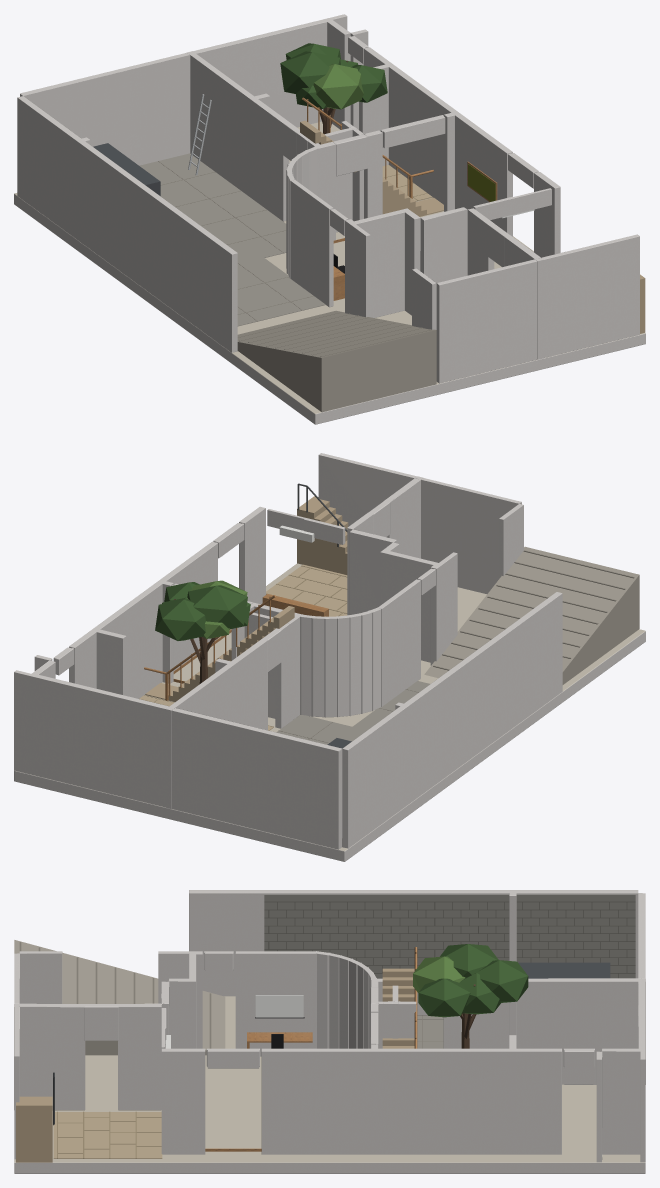
Rendered from basement.gltf.
3 views of the same model, one above another, from view 1: azimuth 30°, elevation 25°; view 2: azimuth 150°, elevation 25°; view 3: azimuth 270°, elevation 25° (orthographic). The views are drawn at different scales.
Parts seen in each view (by area): view 1: Lime White_wall, Concrete, Garage Concrete, Lime White, Lime White_high, Foliage #3F5E33, Terrazzo, Concrete Joint, Kota, Foliage #5D7F45, Teak, Car Grey (+3 smaller); view 2: Lime White_wall, Concrete, Lime White, Foliage #3F5E33, Kota, Terrazzo, Flagstone, Lime White_high, Garage Concrete, Teak, Concrete Joint_high, Concrete Joint (+1 smaller); view 3: Lime White_wall, Concrete Block, Terrazzo, Lime White, Concrete, Block Joint, Foliage #3F5E33, Flagstone, Kota, Lime White_high, Car Grey, Teak (+5 smaller).
Part boxes in pixels (<box>): Lime White_wall: <box>17,14,639,383</box>; Concrete: <box>237,310,436,412</box>; Garage Concrete: <box>139,153,325,326</box>; Lime White: <box>14,194,645,424</box>; Lime White_high: <box>330,36,551,235</box>; Foliage #3F5E33: <box>280,43,387,108</box>; Terrazzo: <box>14,121,645,413</box>; Concrete Joint: <box>158,161,395,349</box>; Kota: <box>300,120,645,333</box>; Foliage #5D7F45: <box>281,64,363,109</box>; Teak: <box>302,97,497,300</box>; Car Grey: <box>93,143,160,195</box>; Lime White_wall: <box>14,453,562,849</box>; Concrete: <box>424,546,639,684</box>; Lime White: <box>14,631,645,861</box>; Foliage #3F5E33: <box>155,582,250,640</box>; Kota: <box>145,496,348,701</box>; Terrazzo: <box>15,563,645,851</box>; Flagstone: <box>139,564,347,730</box>; Lime White_high: <box>53,509,435,675</box>; Garage Concrete: <box>276,681,429,744</box>; Teak: <box>144,594,328,700</box>; Concrete Joint_high: <box>496,550,634,612</box>; Concrete Joint: <box>278,596,598,742</box>; Lime White_wall: <box>14,890,645,1162</box>; Concrete Block: <box>264,894,635,978</box>; Terrazzo: <box>14,996,645,1162</box>; Lime White: <box>14,1162,645,1173</box>; Concrete: <box>14,940,225,1055</box>; Block Joint: <box>264,901,635,978</box>; Foliage #3F5E33: <box>418,944,528,1017</box>; Flagstone: <box>53,1112,162,1158</box>; Kota: <box>16,968,414,1162</box>; Lime White_high: <box>161,951,594,1068</box>; Car Grey: <box>518,962,610,978</box>; Teak: <box>205,947,417,1151</box>.
Bounding box in the file's own units: 4.58 × 2.15 × 7.23.
Materials: 24 (2 with a texture image).
